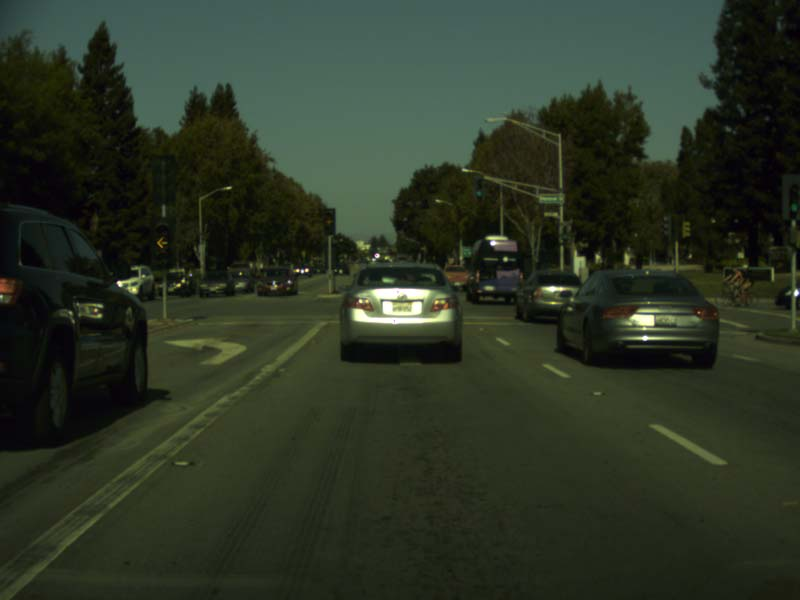Green: (789, 182, 799, 214), (474, 178, 483, 201), (562, 225, 568, 240)
Red: (149, 216, 175, 271), (322, 209, 335, 235)
